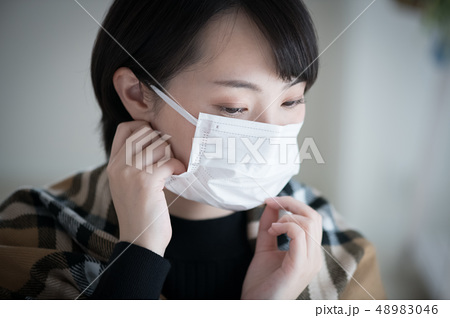mask: (182, 106, 301, 212)
